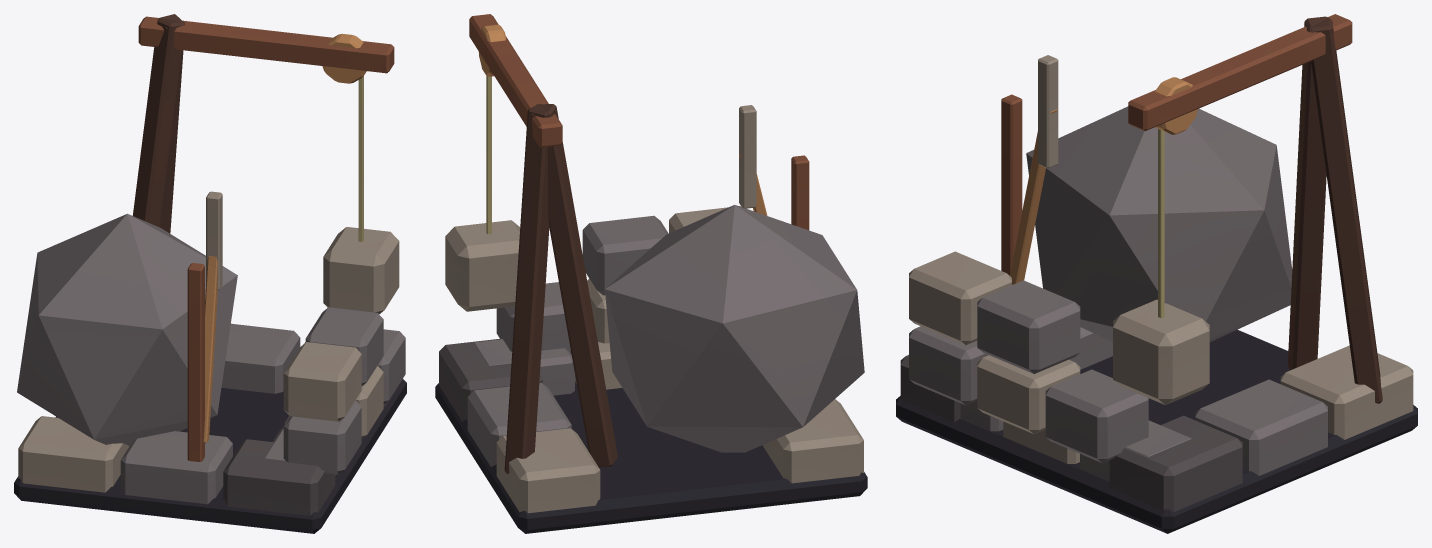
File: building_quarry-OIVJVfKi.glb
The picture shows the model from 3 angles, left to right: view 1: azimuth 30°, elevation 25°; view 2: azimuth 150°, elevation 25°; view 3: azimuth 270°, elevation 25°; orthographic projection. The views are drawn at different scales.
Visible parts, largest first — view 1: building_quarry_l1_body, building_quarry_l1_gold; view 2: building_quarry_l1_body, building_quarry_l1_gold; view 3: building_quarry_l1_body, building_quarry_l1_gold.
Boxes of the visible parts, x1=… form: building_quarry_l1_body: x1=14, y1=14, x2=406, y2=533; building_quarry_l1_gold: x1=206, y1=191, x2=222, y2=290; building_quarry_l1_body: x1=435, y1=14, x2=867, y2=533; building_quarry_l1_gold: x1=739, y1=105, x2=756, y2=208; building_quarry_l1_body: x1=896, y1=14, x2=1417, y2=533; building_quarry_l1_gold: x1=1038, y1=55, x2=1058, y2=168.
Bounding box in the file's own units: 0.8641 × 0.7747 × 0.8641.
Materials: 2 (2 with a texture image).
